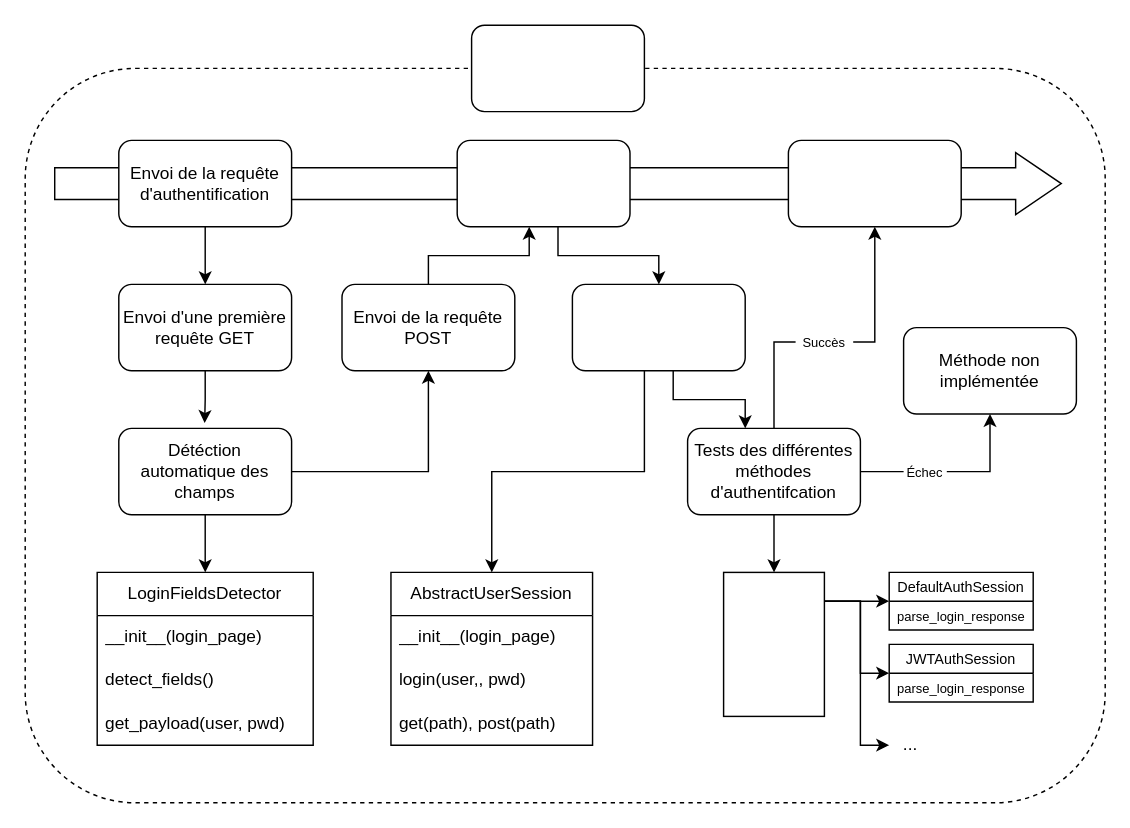
Some shapes in this 1130 by 828 pixel diagram are drawn without their labels. Each missing label, with the box of its shape:
- Default - Basic - Digest - JWT - CSRF - ...: (722, 571, 824, 716)
Analyse de la réponse: (456, 139, 630, 227)
Automatisation de l'authentification: (470, 24, 644, 112)
Création d'une session utilisateur: (571, 283, 745, 371)
Renvoi d'une session authentifiée: (787, 139, 961, 227)
